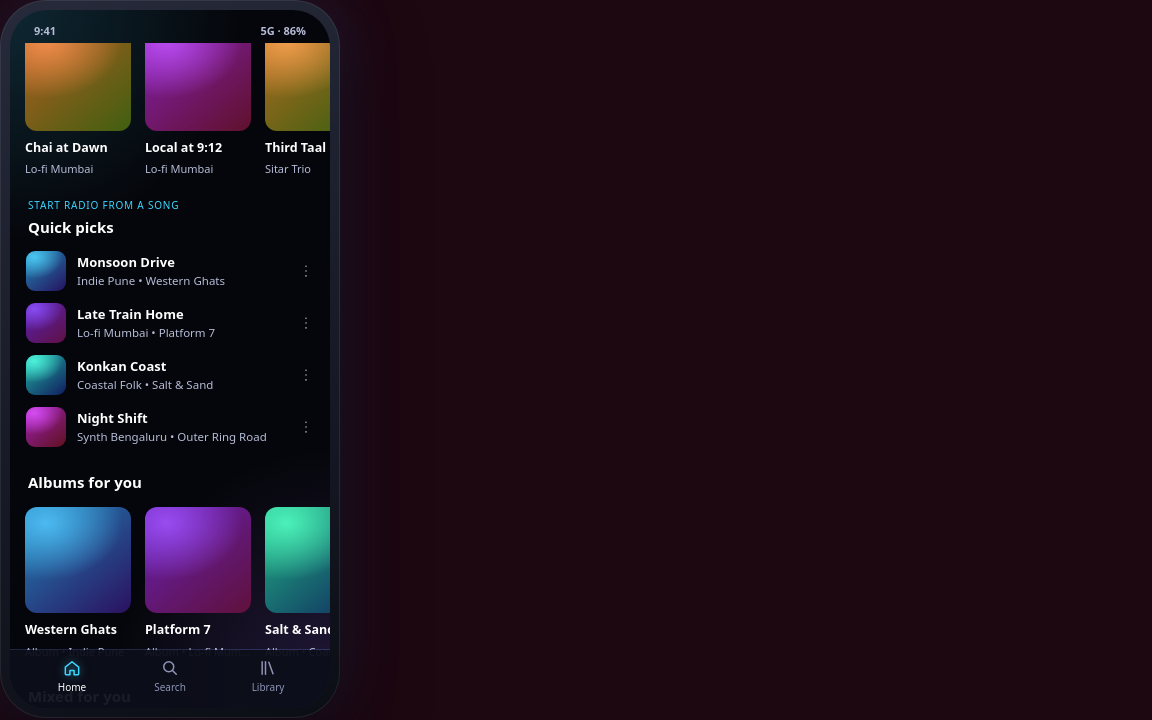
Test: Swar demo › makes a new playlist with the song in it
This screenshot has width=1152, height=720.
(page scrolled)
Click the button named "More for Konkan Coast". click: (306, 375)
box: [288, 357, 324, 393]
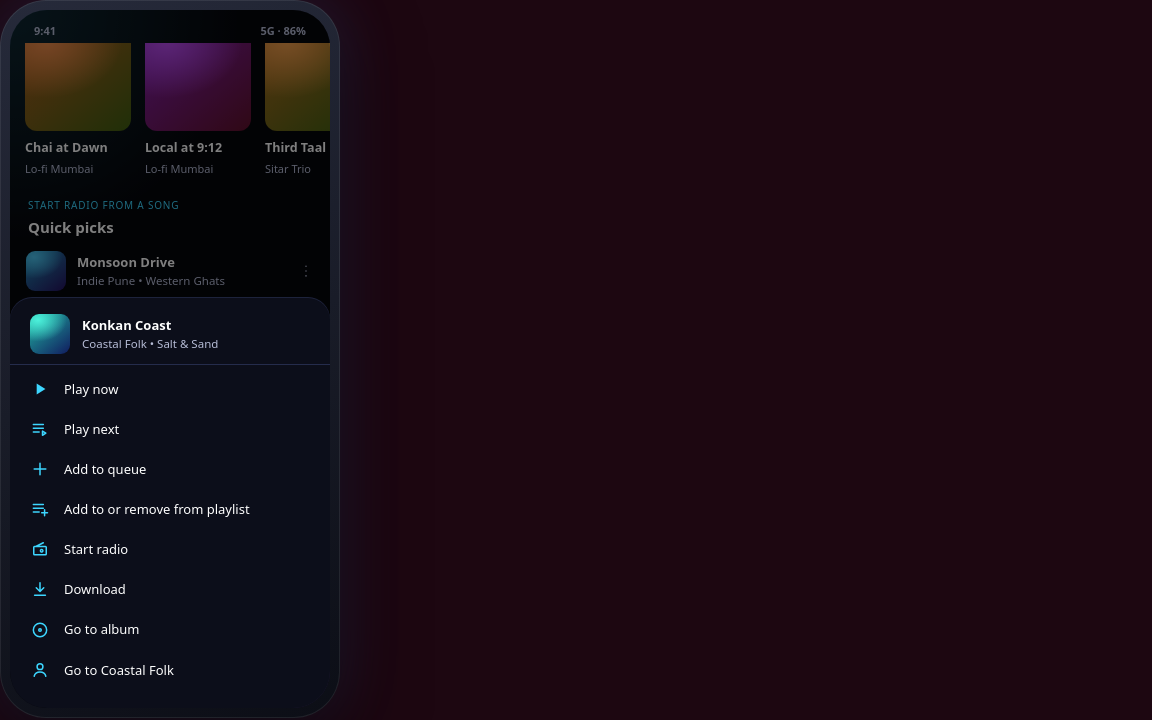
Click the button "Add to or remove from playlist". click: (170, 509)
box: [10, 489, 330, 529]
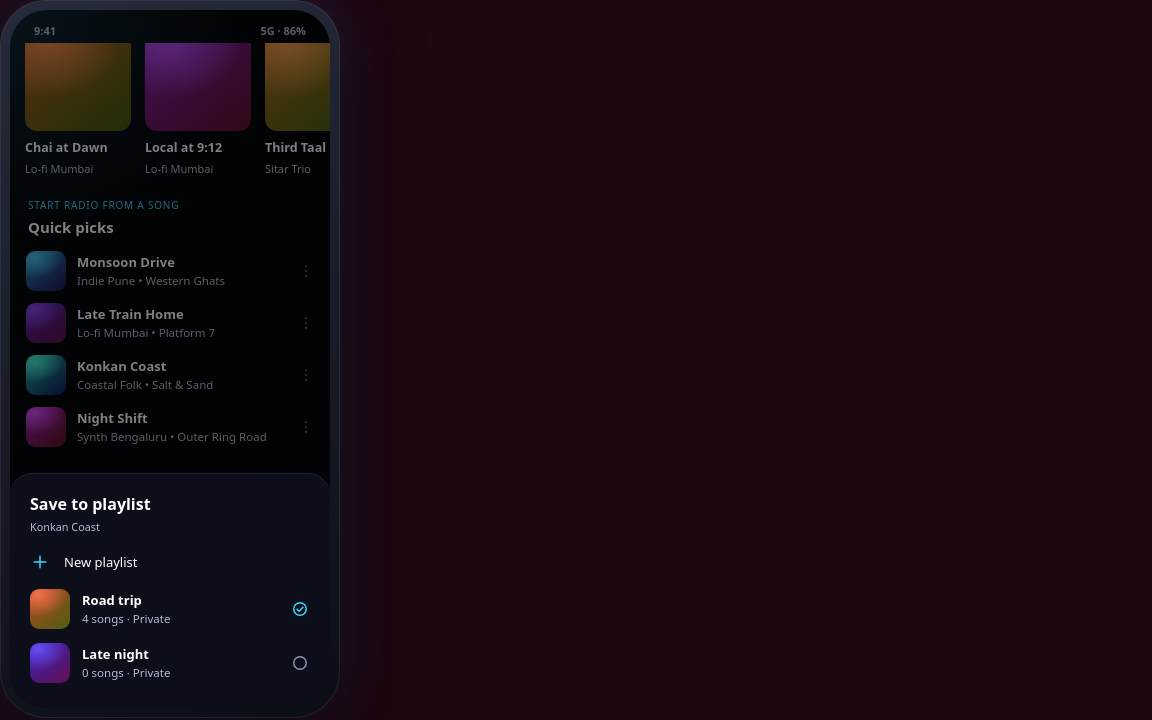
Click the button "New playlist". click: (101, 562)
box: [10, 542, 330, 582]
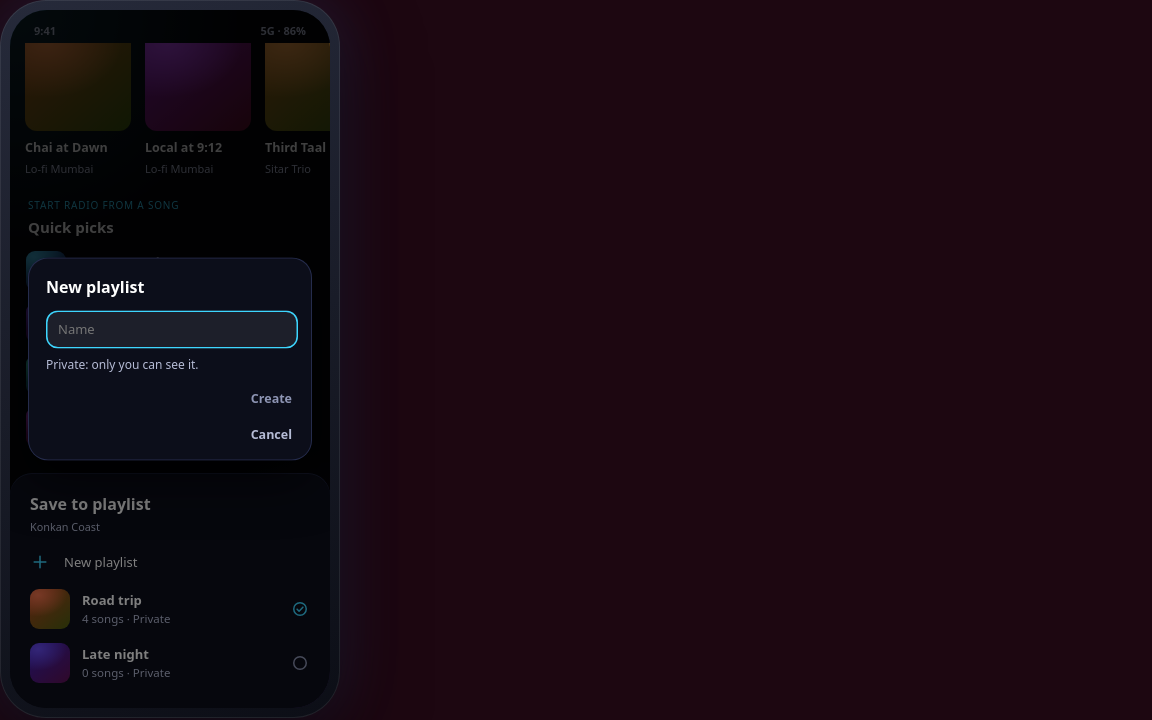
Now the button "Create" is disabled, box [245, 382, 298, 417]
Type "Beach" into the field named "Playlist name". click: (172, 329)
box: [46, 310, 298, 348]
Click the button "Create". click: (271, 399)
box: [245, 382, 298, 417]
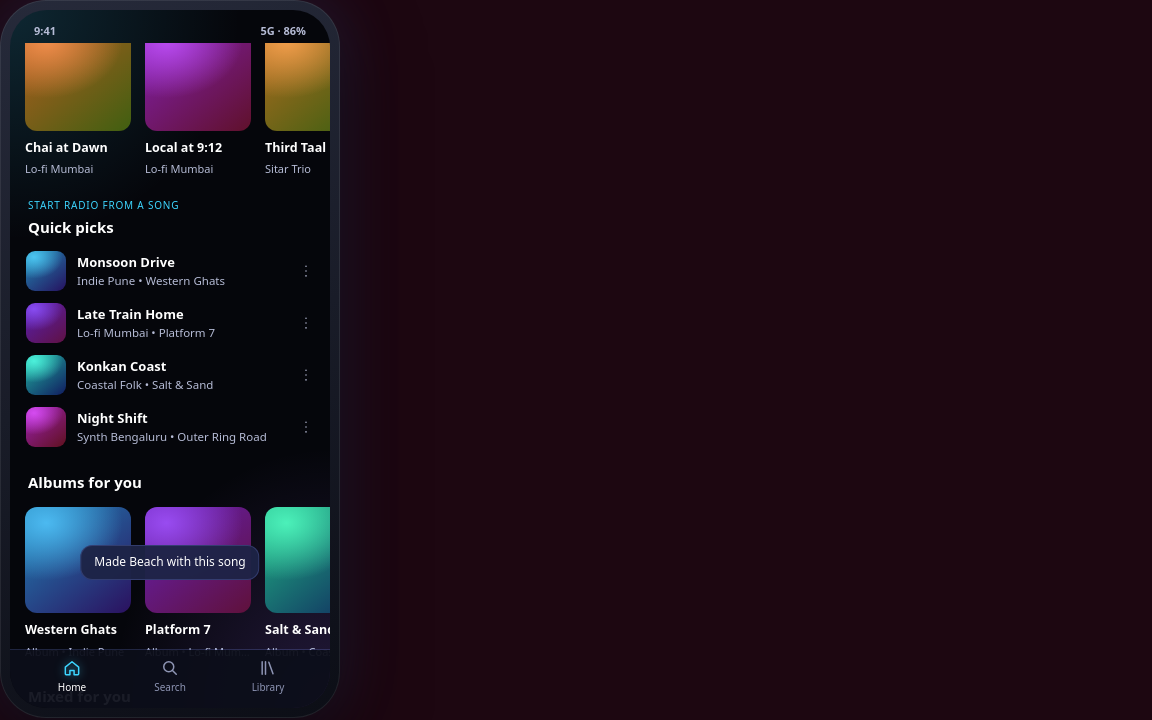
Now the message reads "Made Beach with this song", box [94, 553, 246, 570]
Click the button "Library". click: (268, 677)
box: [232, 650, 304, 704]
(page scrolled)
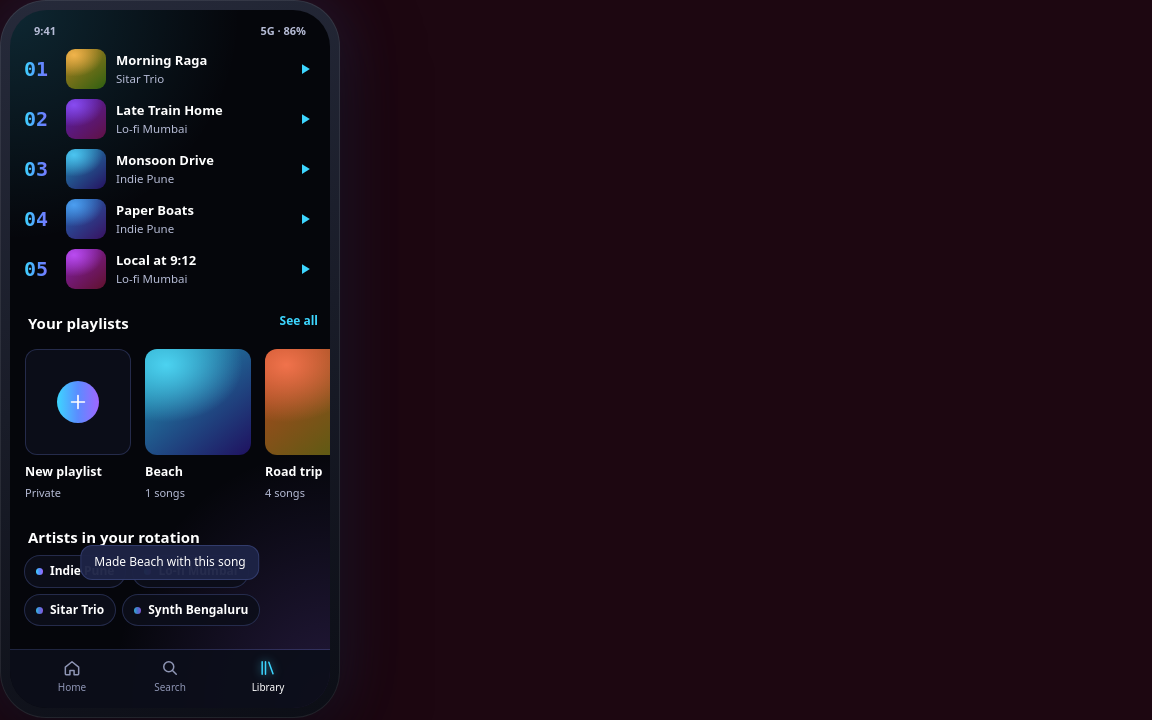
Click the button "Beach 1 songs". click: (198, 425)
box: [140, 344, 256, 506]
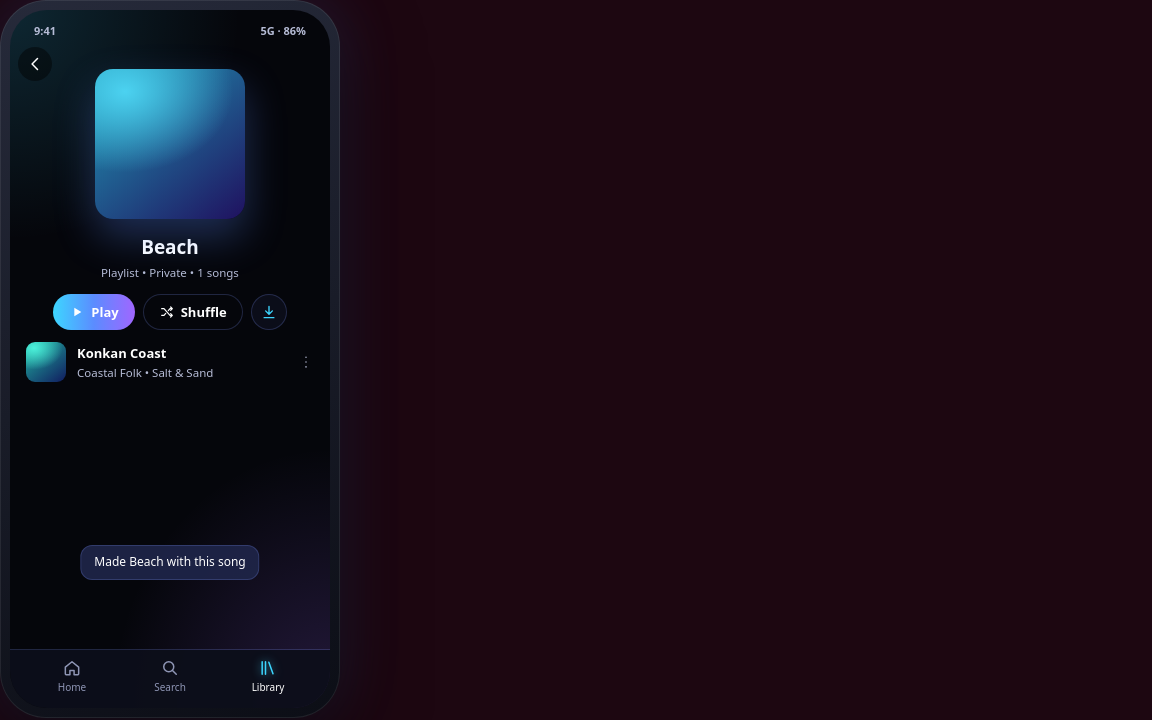
Now the button with aria-label "Play Konkan Coast by Coastal Folk" is shown, box [10, 336, 288, 388]
